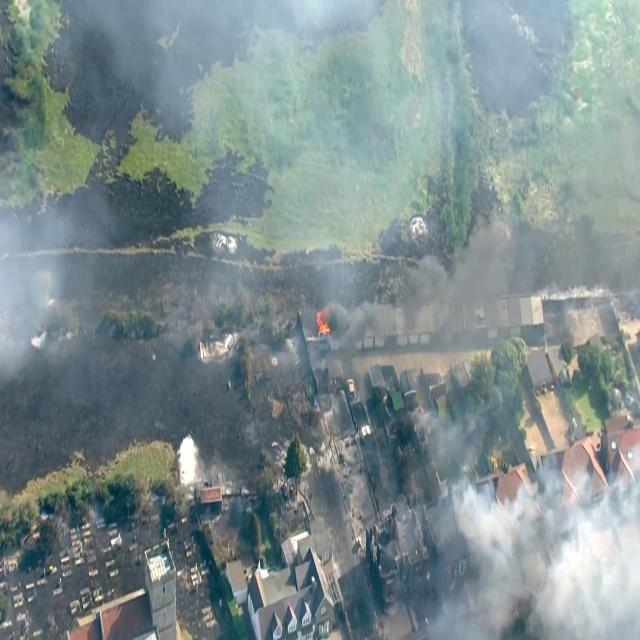Fire: (309, 309, 338, 346)
Smoke: (559, 541, 640, 640), (480, 506, 533, 549)
